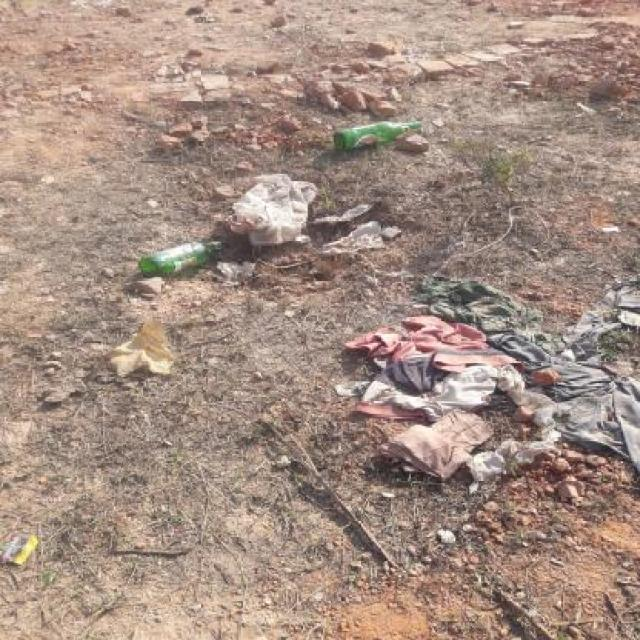garbage: (360, 291, 637, 501), (274, 102, 448, 174), (205, 166, 305, 282), (118, 220, 224, 297), (0, 520, 82, 566)
